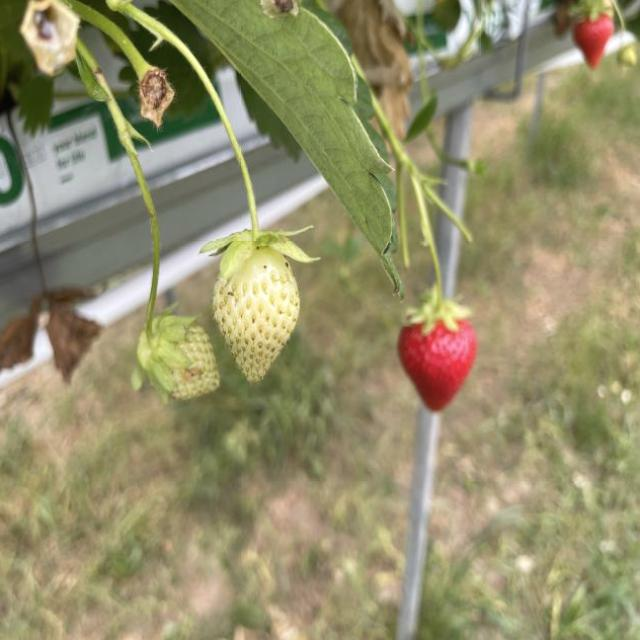stem: (137, 11, 310, 277), (137, 166, 194, 393), (405, 199, 471, 334)
strawberryNR: (214, 254, 298, 382), (172, 325, 220, 399)
strawberryR: (400, 321, 476, 409)
